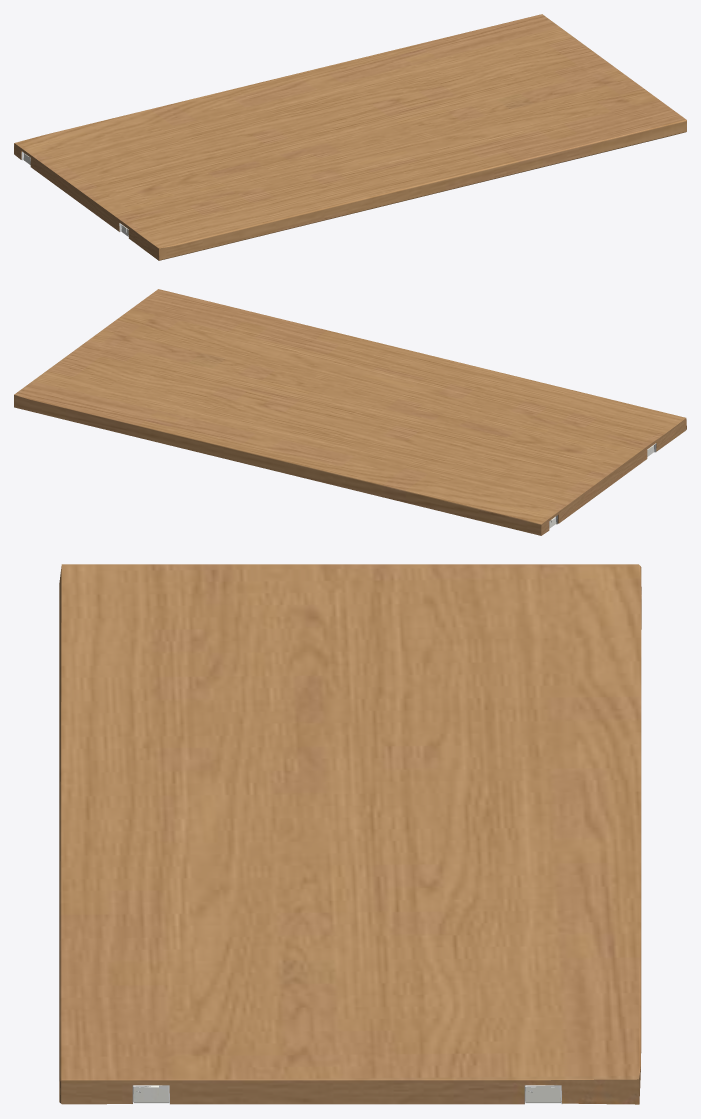
File: 19 - BOAXEL Shelf - oak effect 80x40 cm.glb
3 views of the same model, one above another, from view 1: azimuth 30°, elevation 25°; view 2: azimuth 150°, elevation 25°; view 3: azimuth 270°, elevation 25° (orthographic). The views are drawn at different scales.
Parts seen in each view (by area): view 1: ASY_ART_60576080_S01_NV01; view 2: ASY_ART_60576080_S01_NV01; view 3: ASY_ART_60576080_S01_NV01.
Part boxes in pixels (<box>): ASY_ART_60576080_S01_NV01: <box>14,14,686,260</box>; ASY_ART_60576080_S01_NV01: <box>14,289,686,535</box>; ASY_ART_60576080_S01_NV01: <box>59,564,641,1104</box>.
Bounding box in the file's own units: 0.797 × 0.0191 × 0.3803.
1 material, 1 textured.
